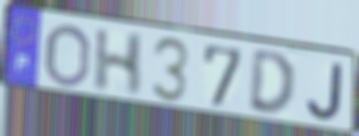3: (150, 34, 191, 106)
7: (200, 43, 245, 109)
D: (246, 50, 298, 120)
H: (91, 28, 147, 99)
J: (304, 60, 346, 123)
O: (42, 22, 93, 90)
